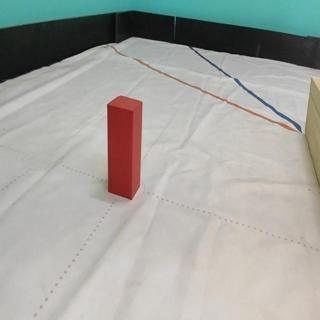redbox: (106, 95, 143, 200)
